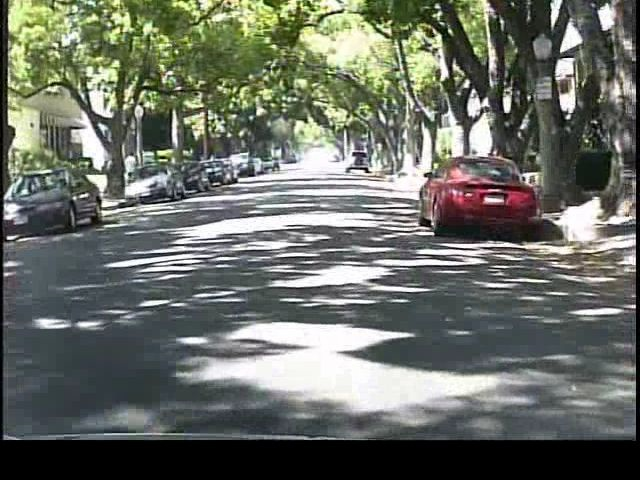person: (122, 147, 144, 194)
